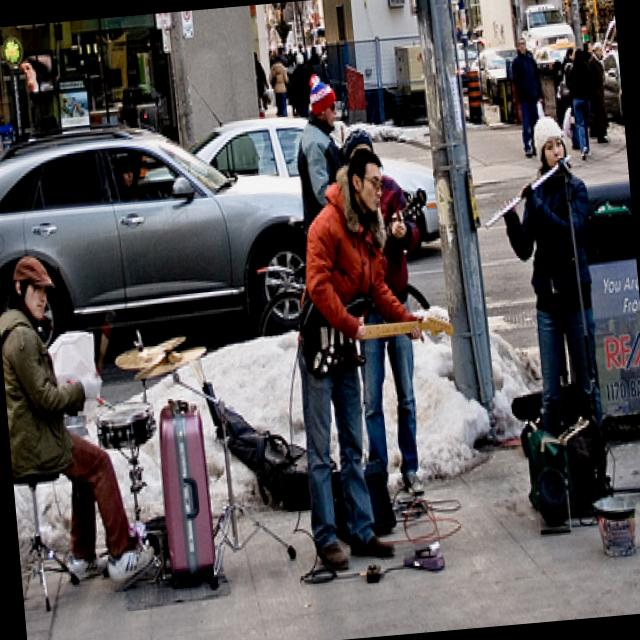Vehicle: (0, 104, 317, 352), (195, 111, 312, 190), (473, 0, 573, 59), (468, 42, 520, 106), (599, 45, 624, 126), (454, 42, 482, 88), (598, 13, 618, 52)
